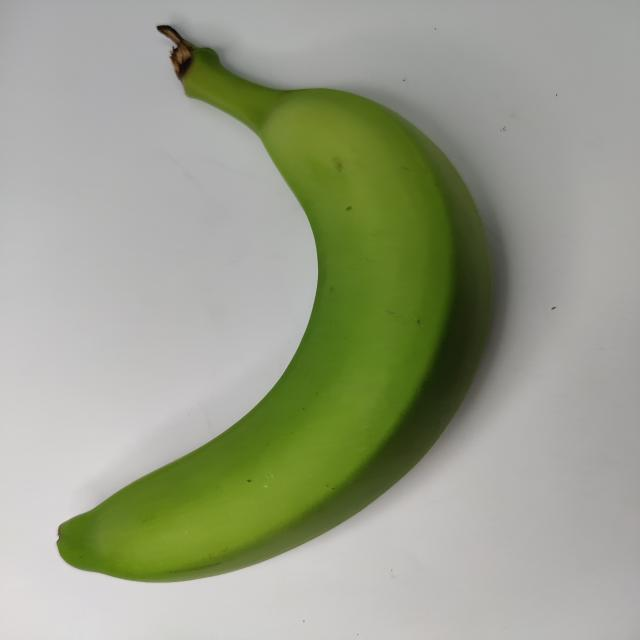raw: (2, 21, 540, 601)
